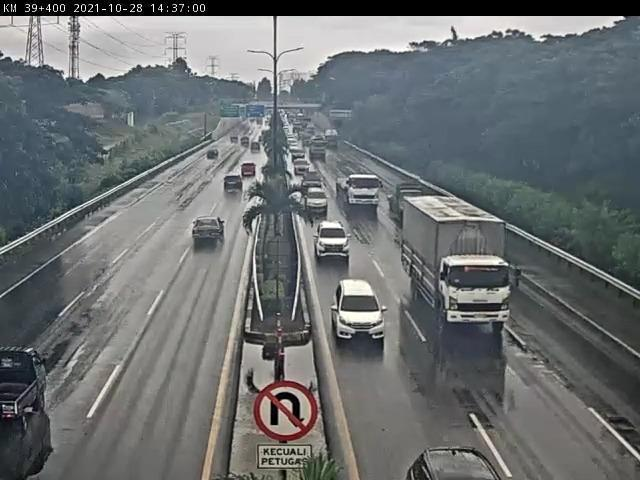car: (335, 265, 384, 343), (183, 219, 232, 256), (314, 211, 345, 257), (298, 179, 333, 208), (214, 173, 244, 205)
truck: (420, 219, 524, 332), (343, 168, 376, 212)
